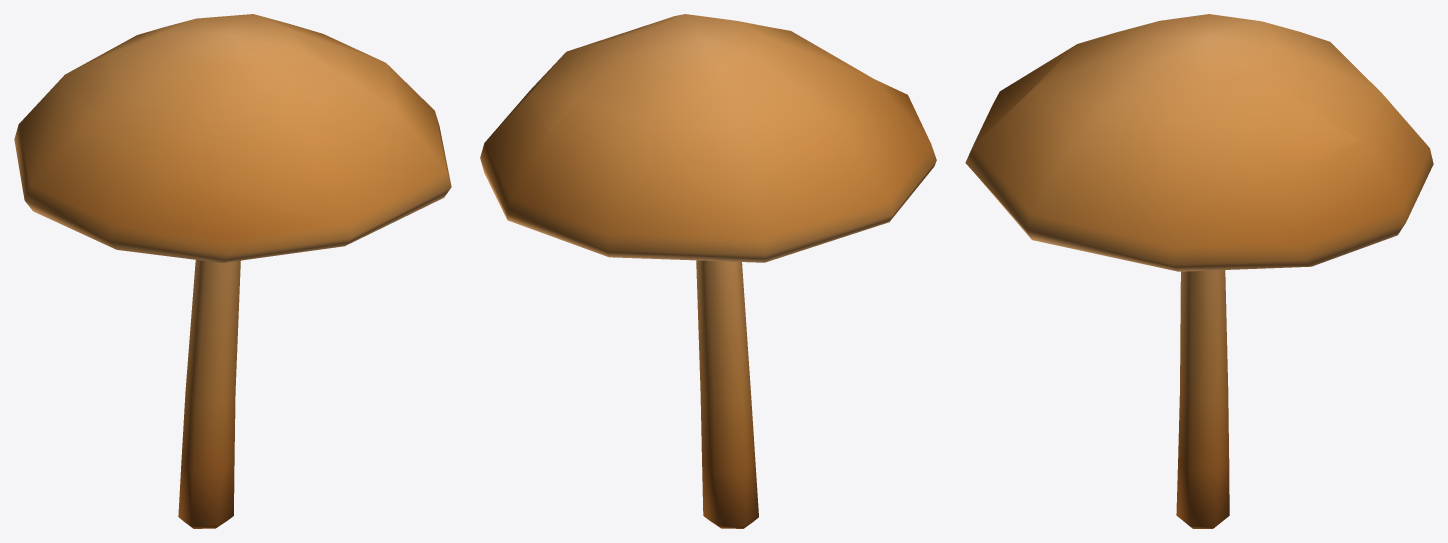
Rendered from SM_EnokiMushroom_E.fbx.
3 renders of one model, left to right at view 1: azimuth 30°, elevation 25°; view 2: azimuth 150°, elevation 25°; view 3: azimuth 270°, elevation 25°, orthographic. The views are drawn at different scales.
Visible parts, largest first — view 1: SM_EnokiMushroom_E; view 2: SM_EnokiMushroom_E; view 3: SM_EnokiMushroom_E.
Part boxes in pixels (bbox=[...]): SM_EnokiMushroom_E: bbox=[14, 14, 451, 528]; SM_EnokiMushroom_E: bbox=[480, 14, 936, 528]; SM_EnokiMushroom_E: bbox=[965, 14, 1433, 528].
Size of the model in its own units: 27.4 by 32.03 by 27.36.
